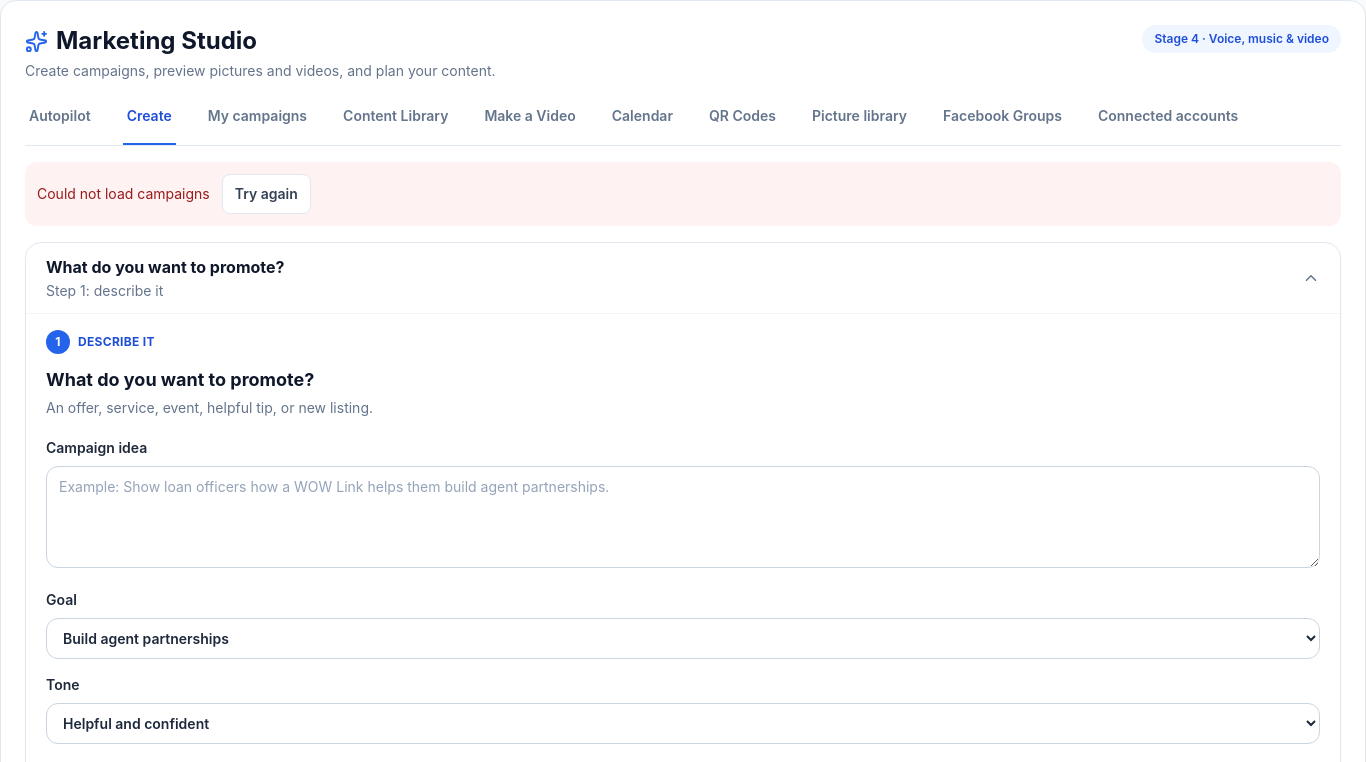
Test: load errors can retry and do not pretend the account has no campaigns
Expected: the text "Could not load campaigns" is shown, 37,185 -> 210,202
Click the button "Try again": (266, 194) 222,174 -> 311,214
(page scrolled)
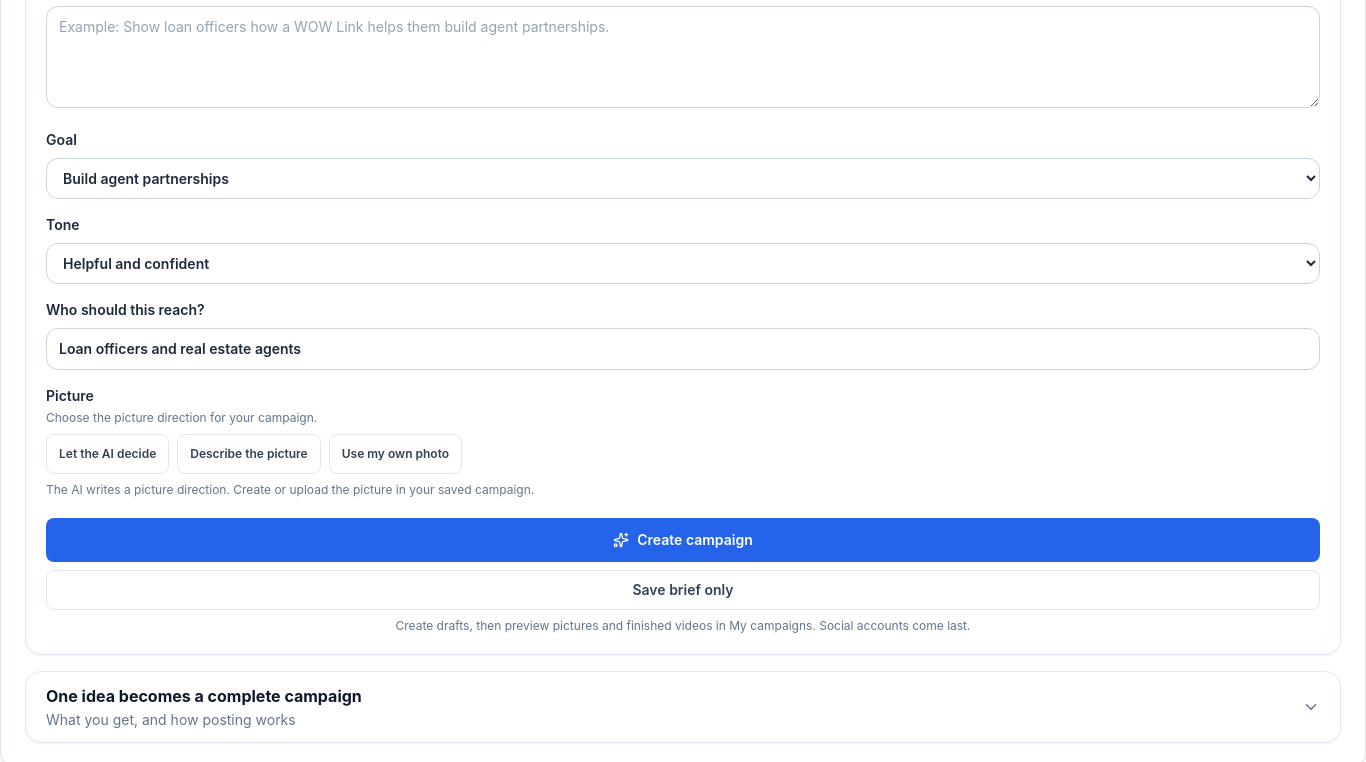
Result: the button "Create campaign" is enabled at 46,518 -> 1320,562
